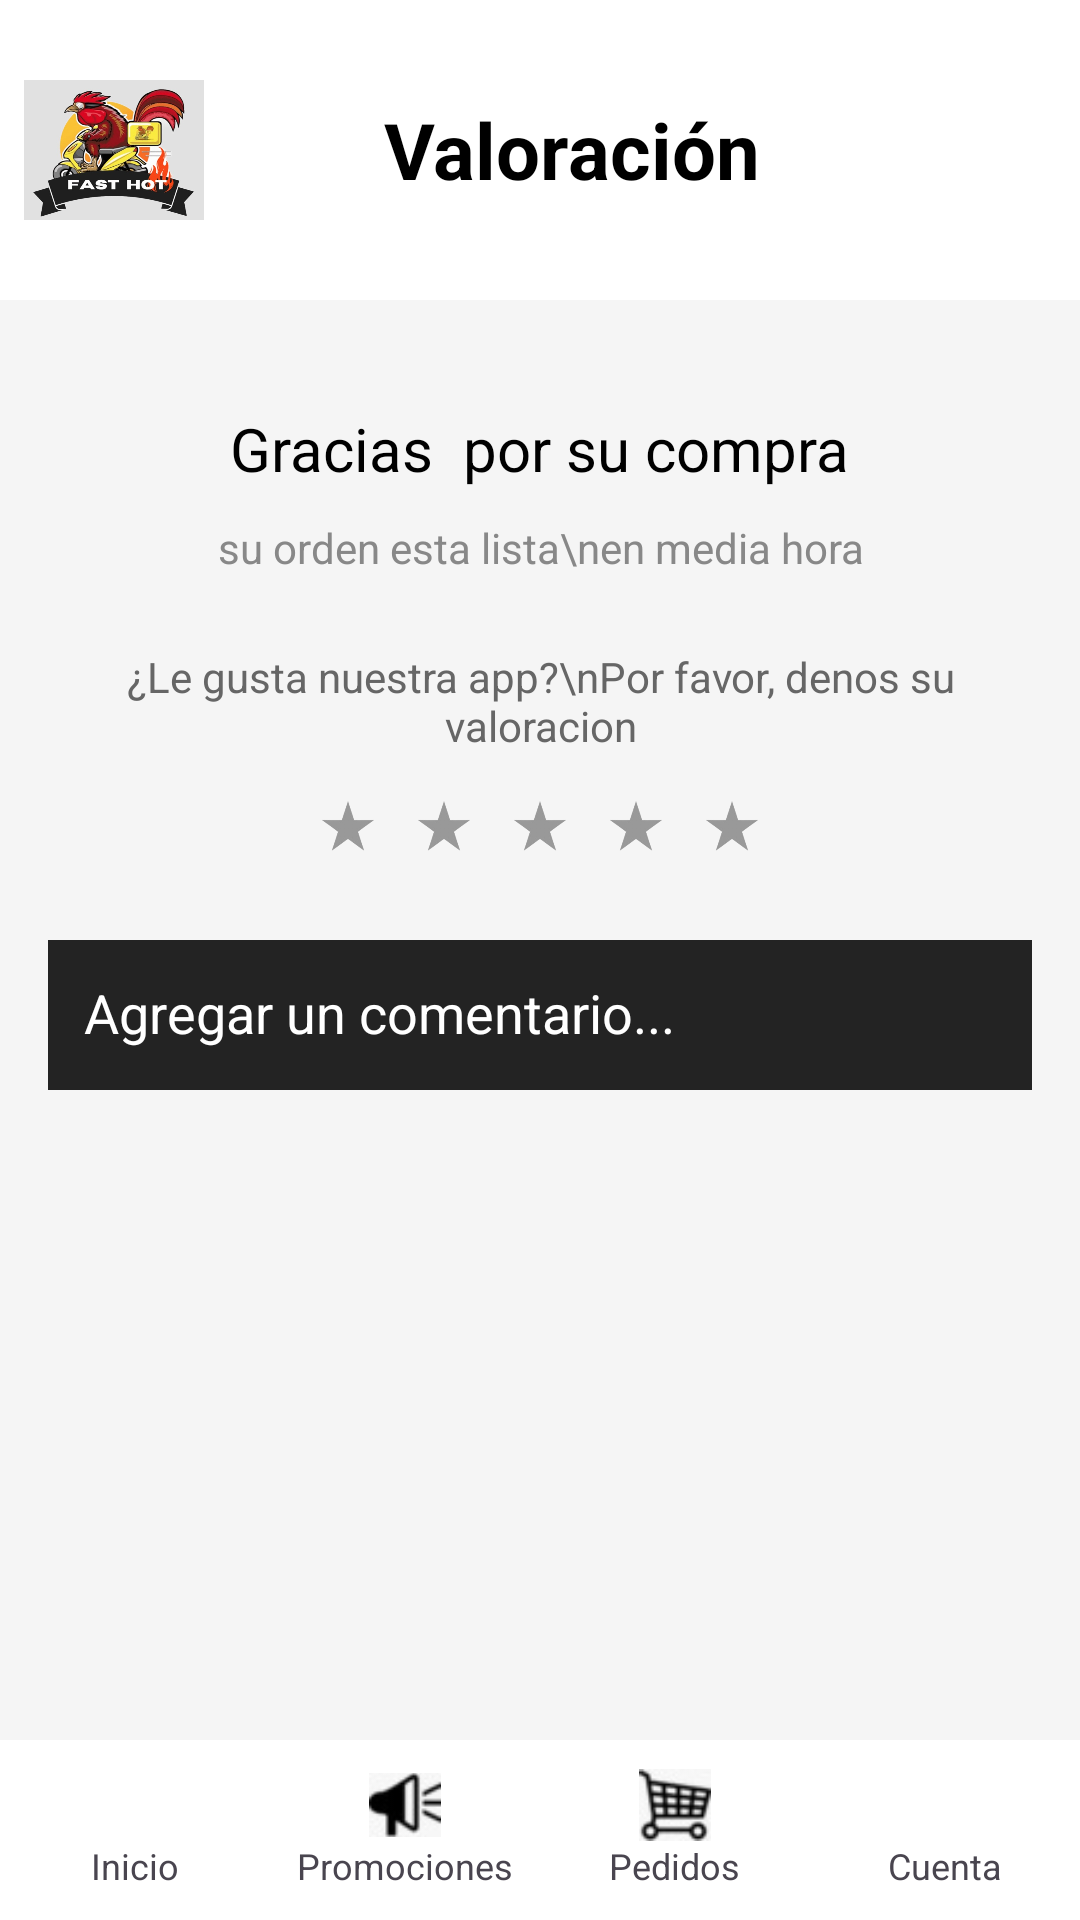

Where icons sit on this 1080px x 1920px app screen, as (x1, y1, x2, y2):
estrellapng: (322, 802, 374, 850), (418, 802, 470, 850), (514, 802, 566, 850), (610, 802, 662, 850), (706, 802, 758, 850)
